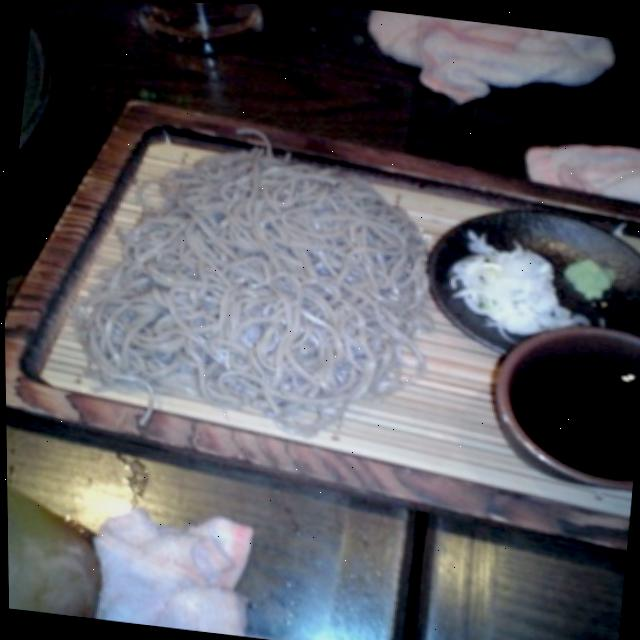面条主食: (65, 93, 440, 446)
